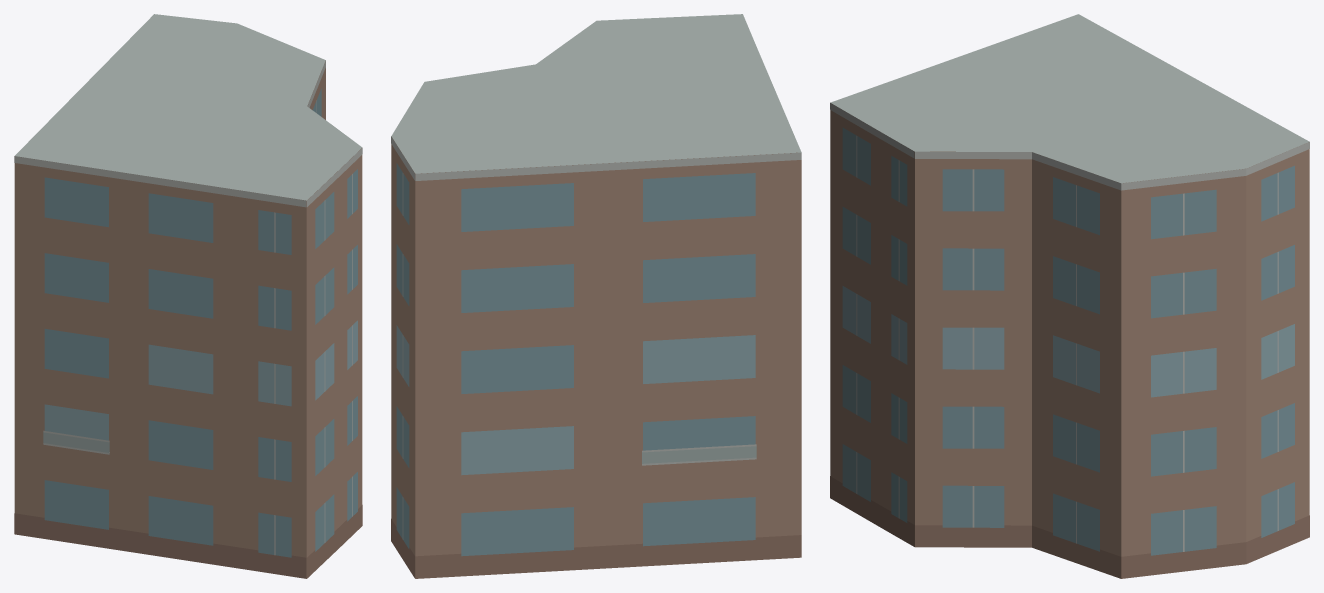
Rendered from survey-upis-32795600.glb.
3 views of the same model, side by side, from view 1: azimuth 30°, elevation 25°; view 2: azimuth 150°, elevation 25°; view 3: azimuth 270°, elevation 25° (orthographic). The views are drawn at different scales.
Visible parts, largest first — view 1: survey-upis-32795600.tmp; view 2: survey-upis-32795600.tmp; view 3: survey-upis-32795600.tmp.
Part boxes in pixels (x1,y1,x2,y2): survey-upis-32795600.tmp: [14, 14, 362, 578]; survey-upis-32795600.tmp: [391, 14, 801, 578]; survey-upis-32795600.tmp: [830, 14, 1309, 578].
Bounding box in the file's own units: 12.26 × 13.35 × 14.68.
